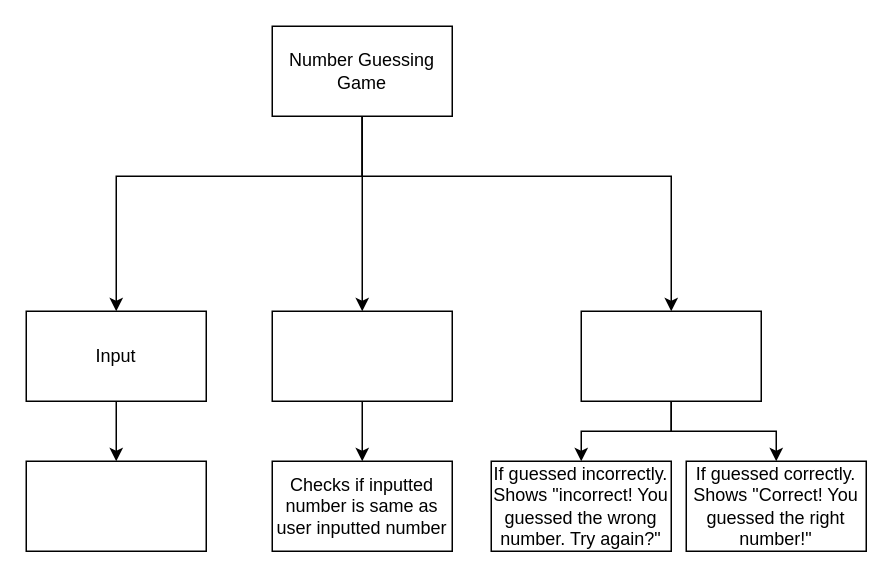
The diagram is 893 pixels wide and 578 high, and some of its shapes have lost their labels. The shapes that lost their labels are listed below. From the top down, each one's centre as x and y in pixels, then its label:
At point (361, 355): "Process".
At point (670, 355): "Output".
At point (115, 505): "Get user inputted number".
